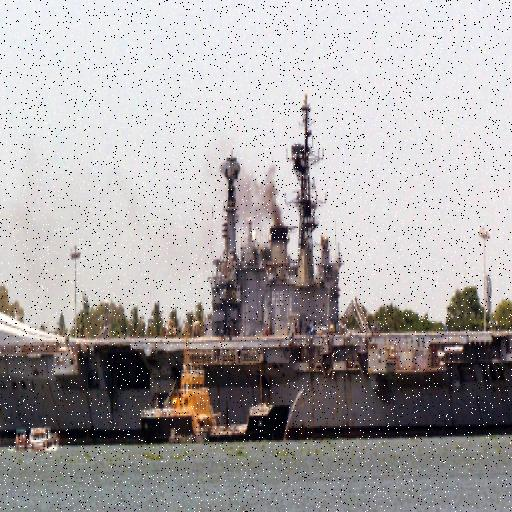Portanaves: (1, 82, 512, 453)
